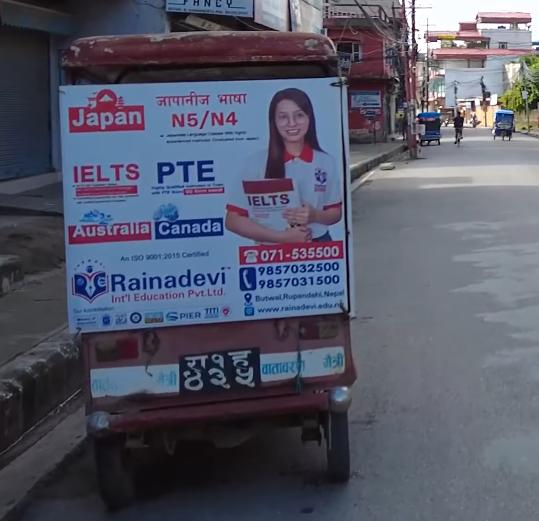e-rickshaw: (52, 28, 369, 502), (417, 109, 443, 148), (491, 107, 518, 144)
